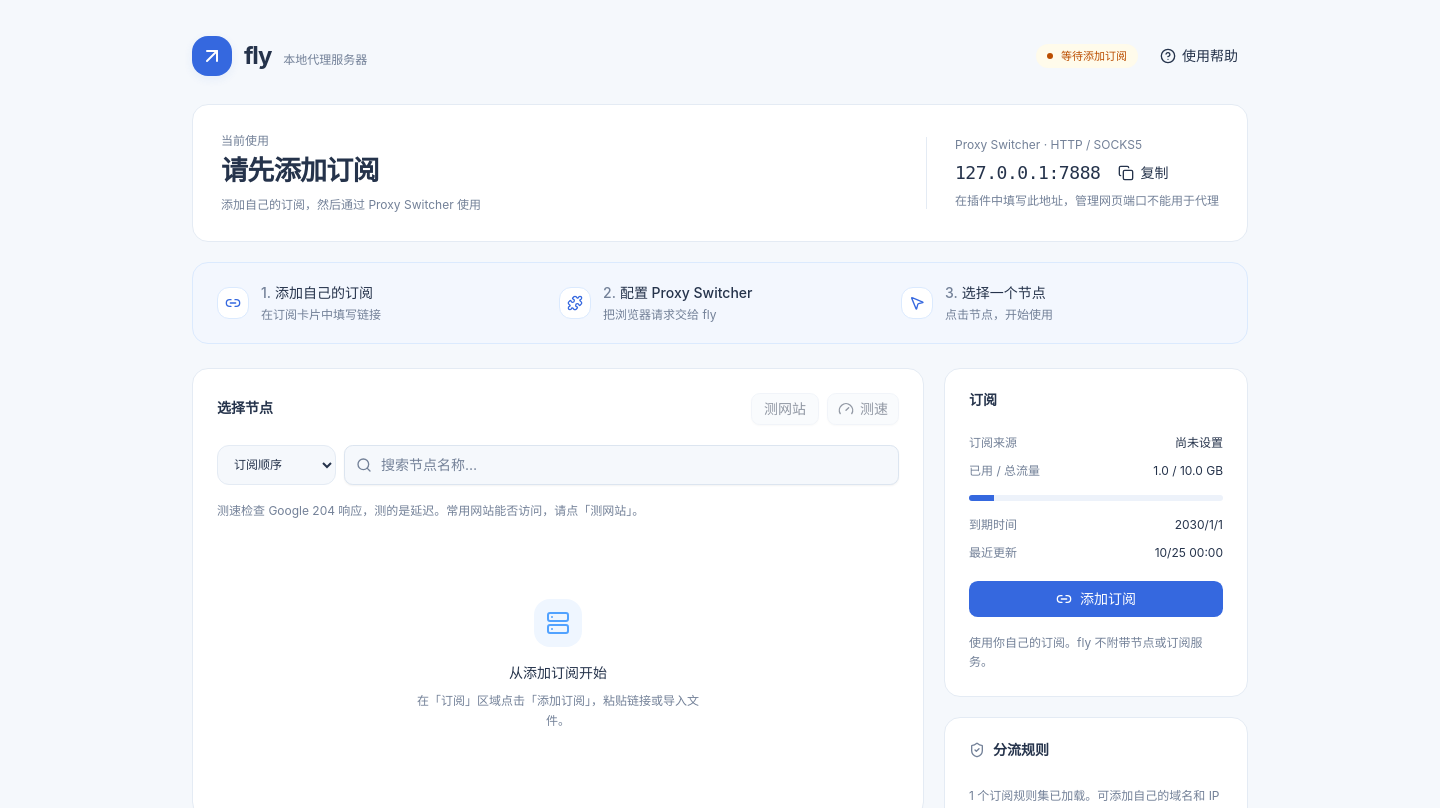
Test: guides a fresh user to add their own masked subscription
Step 1. Click the button "添加订阅" → [1096, 599], box 969,581 -> 1223,617
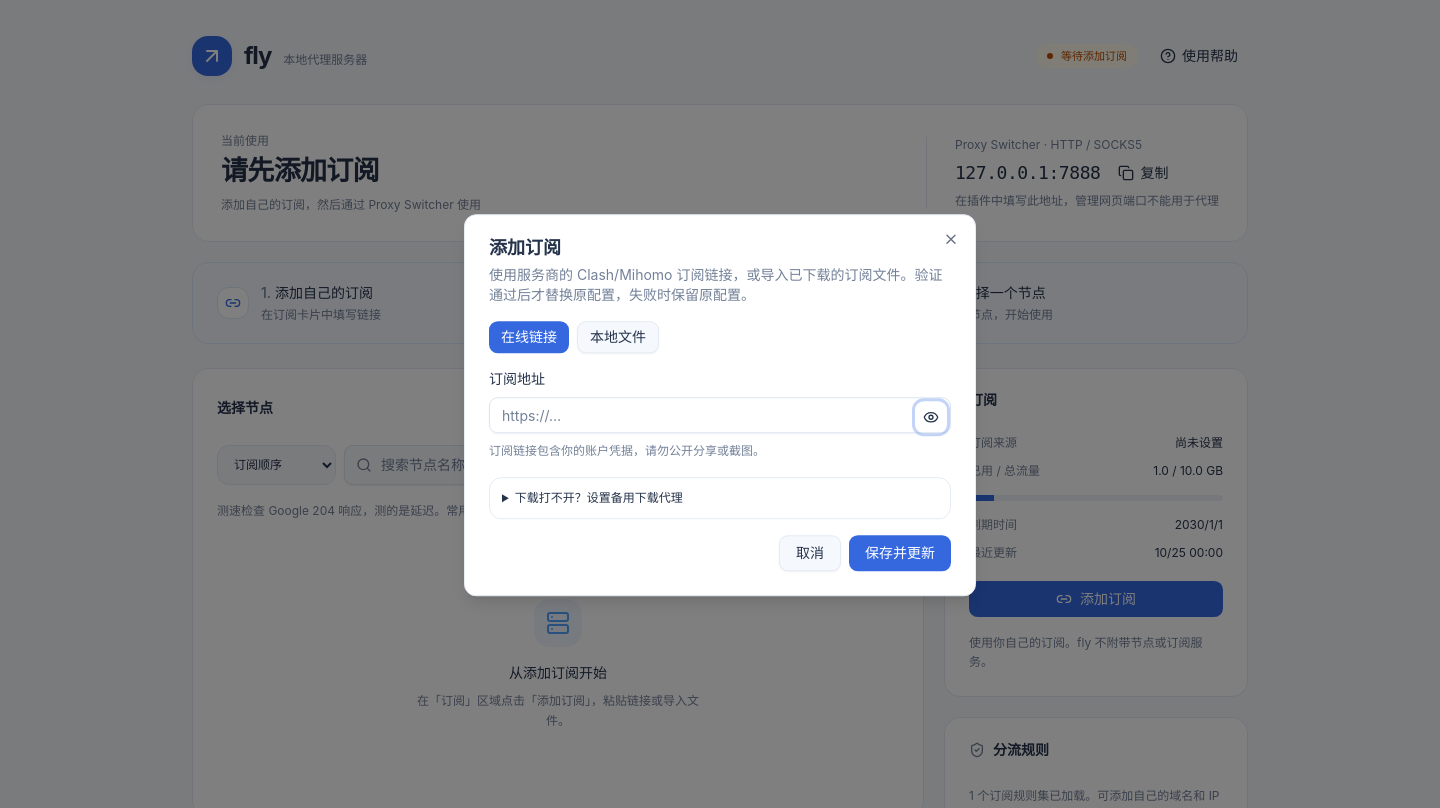
Expected: the dialog is shown, 464,214 -> 976,596
Step 2. Type "ftp://example.org/sub" into the password field labelled "订阅地址" → [720, 415], box 489,397 -> 951,433
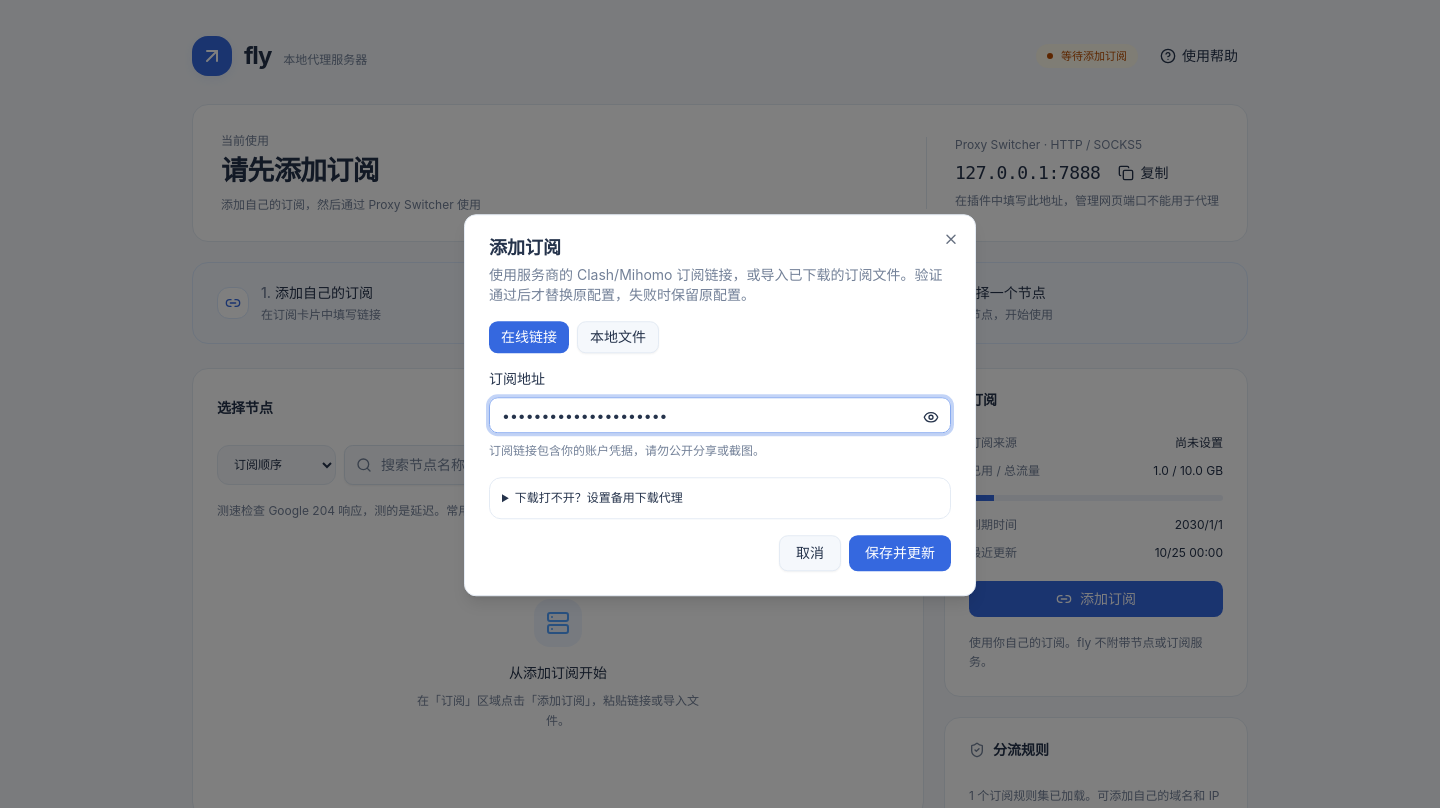
Step 3. Click the button "保存并更新" → [900, 553], box 849,535 -> 951,571
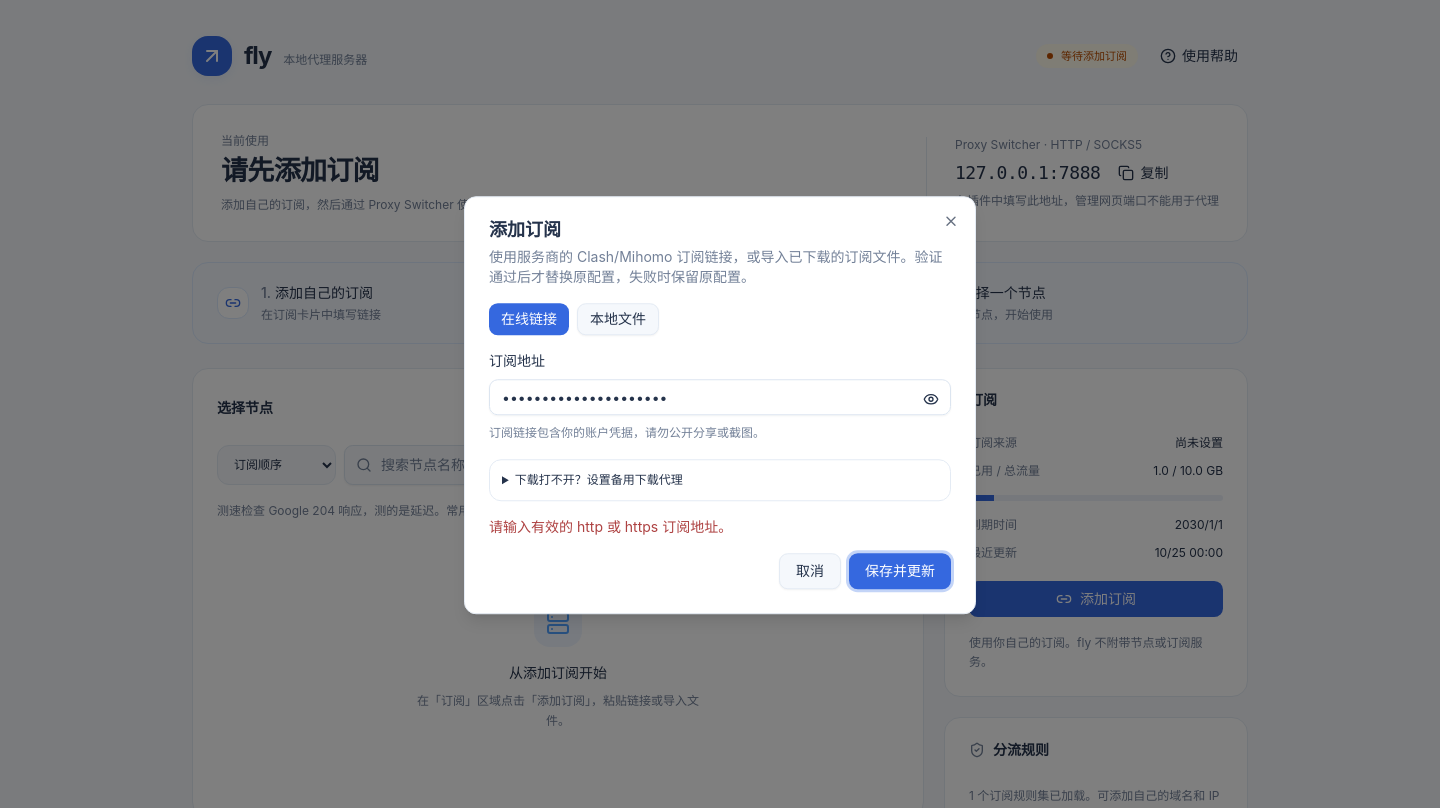
Expected: the text "请输入有效的 http 或 https 订阅地址。" is shown, 489,518 -> 732,535
